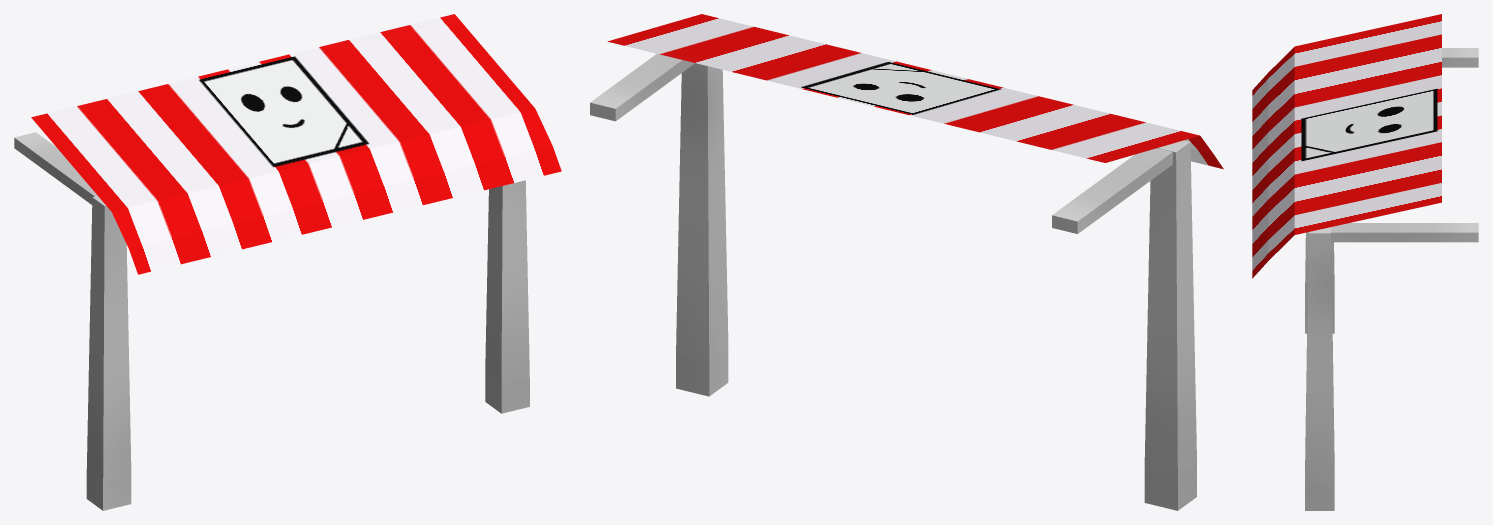
Rendered from toldo.fbx.
The picture shows the model from 3 angles, left to right: view 1: azimuth 30°, elevation 25°; view 2: azimuth 150°, elevation 25°; view 3: azimuth 270°, elevation 25°; orthographic projection. The views are drawn at different scales.
Visible parts, largest first — view 1: Teto.002; view 2: Teto.002; view 3: Teto.002.
Part boxes in pixels (<box>): Teto.002: <box>14,14,561,510</box>; Teto.002: <box>590,14,1223,510</box>; Teto.002: <box>1252,14,1478,510</box>.
Size of the model in its own units: 2736 by 2056 by 1369.
